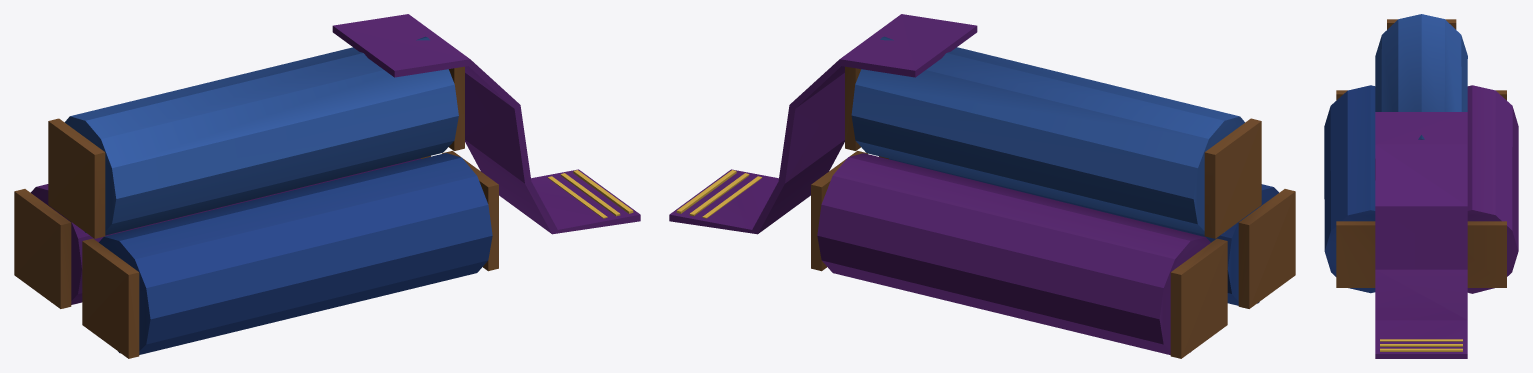
3 renders of one model, left to right at view 1: azimuth 30°, elevation 25°; view 2: azimuth 150°, elevation 25°; view 3: azimuth 270°, elevation 25°, orthographic. The views are drawn at different scales.
Parts seen in each view (by area): view 1: base; view 2: base; view 3: base.
Boxes of the visible parts, x1,y1,x2,y2 form: base: (14, 14, 640, 358); base: (669, 14, 1295, 358); base: (1324, 14, 1518, 358).
Bounding box in the file's own units: 0.503 × 0.1895 × 0.2107.
